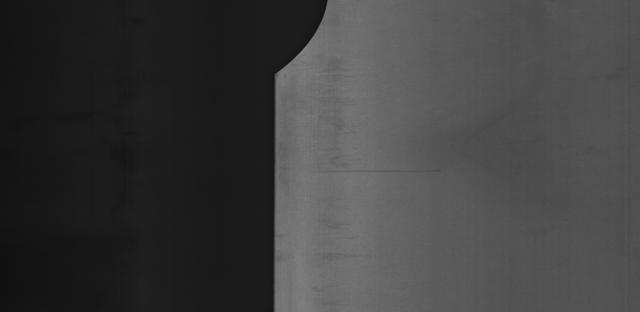crescent_gap: (263, 0, 357, 92)
